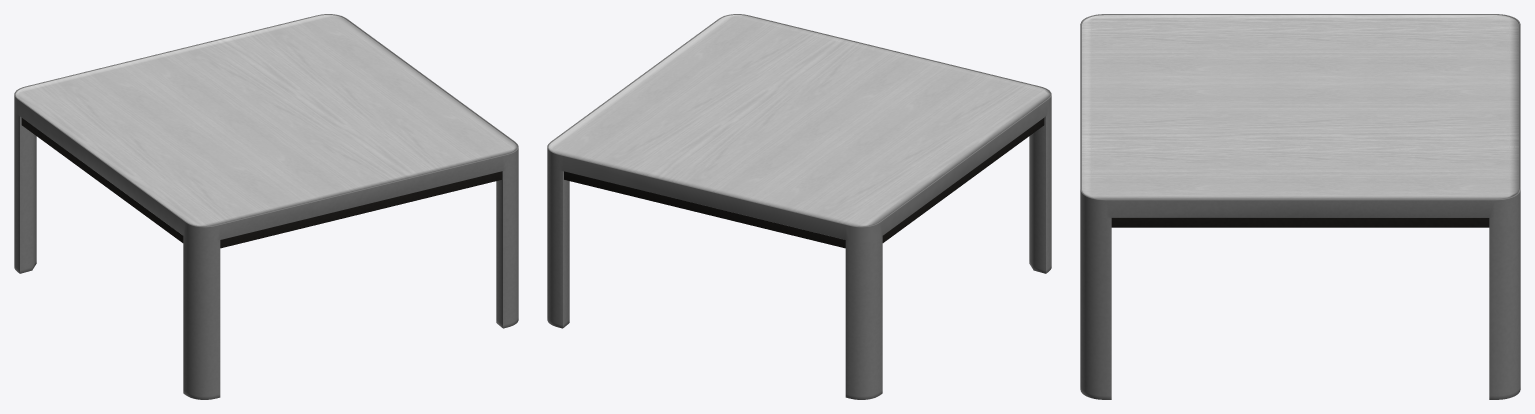
The model's file is table.obj.
3 renders of one model, left to right at view 1: azimuth 30°, elevation 25°; view 2: azimuth 150°, elevation 25°; view 3: azimuth 270°, elevation 25°, orthographic. The views are drawn at different scales.
Visible parts, largest first — view 1: Cube, Cube_002; view 2: Cube, Cube_002; view 3: Cube, Cube_002.
Boxes of the visible parts, box(x1,y1,x2,y2) form: Cube: box(14, 14, 518, 399); Cube_002: box(21, 118, 501, 248); Cube: box(547, 14, 1051, 399); Cube_002: box(564, 118, 1044, 248); Cube: box(1080, 14, 1520, 399); Cube_002: box(1111, 218, 1489, 227).
Size of the model in its own units: 27.56 by 13.82 by 27.56.
2 materials, 2 textured.
